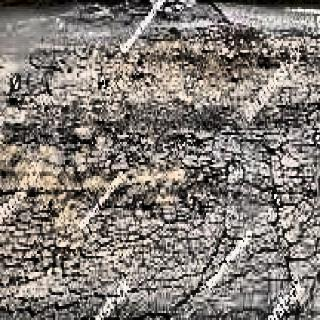alligator-crack: (192, 113, 313, 319), (6, 204, 189, 317), (17, 28, 188, 133)
pothole: (85, 143, 178, 192), (196, 28, 258, 80)
